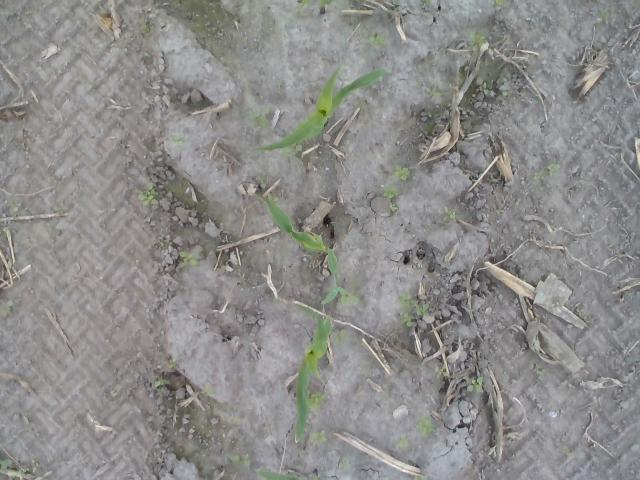Maize: (253, 62, 387, 158), (258, 196, 344, 307), (294, 306, 330, 443), (296, 0, 336, 15), (258, 468, 304, 480)
Weeds: (400, 290, 430, 316), (136, 183, 160, 209), (415, 414, 437, 439), (464, 29, 488, 46), (340, 287, 360, 306), (310, 391, 326, 414), (178, 250, 199, 267), (226, 452, 251, 466), (536, 163, 560, 177), (399, 310, 416, 329), (368, 32, 388, 48), (150, 374, 170, 390), (310, 430, 328, 447), (250, 111, 268, 128), (394, 164, 411, 182), (382, 184, 400, 200), (336, 455, 352, 472), (0, 299, 14, 318), (467, 376, 483, 392), (479, 79, 494, 96), (442, 206, 457, 222), (138, 17, 152, 34), (499, 80, 512, 98), (425, 86, 446, 97), (434, 365, 449, 379), (0, 457, 11, 475), (202, 382, 216, 396), (334, 330, 348, 344), (255, 175, 268, 190), (398, 433, 410, 449), (54, 201, 67, 214), (597, 8, 609, 22), (170, 132, 184, 144), (30, 457, 39, 473), (6, 199, 16, 210), (388, 202, 398, 213), (168, 359, 178, 369), (7, 8, 17, 16), (536, 366, 544, 376), (495, 0, 507, 6), (459, 80, 466, 88), (168, 447, 176, 454), (447, 81, 453, 88)
